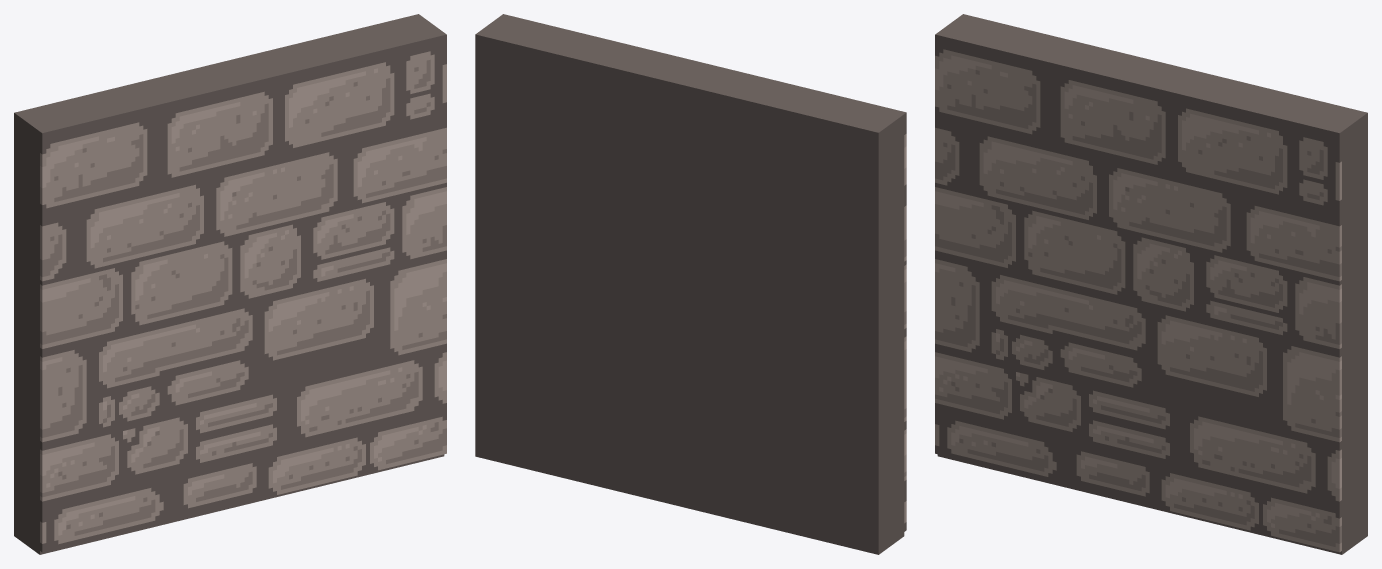
File: GGJ walls 1.1.obj
3 views of the same model, side by side, from view 1: azimuth 30°, elevation 25°; view 2: azimuth 150°, elevation 25°; view 3: azimuth 330°, elevation 25° (orthographic).
Size of the model in its own units: 10 by 10 by 1.2.
Materials: 1 (1 with a texture image).
